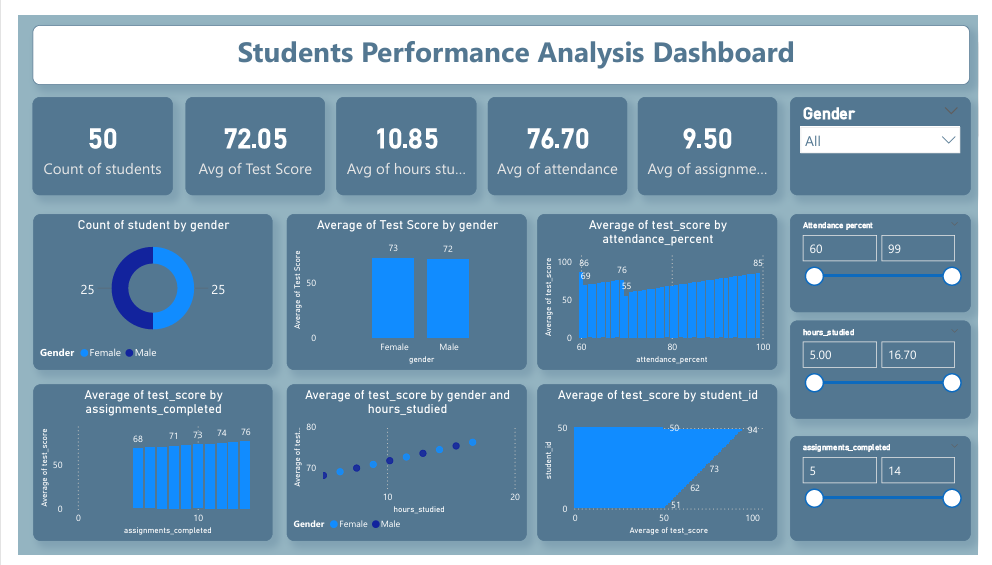

The page's visual inventory and layout, read from the dashboard file:
{"tool":"powerbi","page":{"name":"Page 1","canvas":[1280,720],"ordinal":0},"visuals":[{"type":"card","fields":{"Values":["CountNonNull(student_performance_analysis.student_id)"]},"box":[18.5,107.5,186.5,131],"z":0},{"type":"textbox","box":[18.5,11.8,1249.8,80.6],"z":1000},{"type":"card","fields":{"Values":["Avg(student_performance_analysis.test_score)"]},"box":[221.7,107.5,186.5,131],"z":2000},{"type":"card","fields":{"Values":["Avg(student_performance_analysis.hours_studied)"]},"box":[423.3,107.5,186.5,131],"z":3000},{"type":"card","fields":{"Values":["Avg(student_performance_analysis.attendance_percent)"]},"box":[624.9,107.5,186.5,131],"z":4000},{"type":"card","fields":{"Values":["Avg(student_performance_analysis.assignments_completed)"]},"box":[824.8,107.5,186.5,131],"z":5000},{"type":"slicer","fields":{"Values":["student_performance_analysis.gender"]},"box":[1028.2,108,240.5,131],"z":6000},{"type":"donutChart","fields":{"Y":["CountNonNull(student_performance_analysis.student_id)"],"Category":["student_performance_analysis.gender"]},"box":[18.7,263.5,319.7,208.8],"z":7000},{"type":"lineClusteredColumnComboChart","fields":{"Category":["student_performance_analysis.gender"],"Y":["Avg(student_performance_analysis.test_score)"]},"box":[357.1,263.5,319.7,208.8],"z":8000},{"type":"lineStackedColumnComboChart","fields":{"Category":["student_performance_analysis.attendance_percent"],"Y":["Avg(student_performance_analysis.test_score)"]},"box":[691.2,263.5,319.7,208.8],"z":9000},{"type":"columnChart","fields":{"Y":["Avg(student_performance_analysis.test_score)"],"Category":["student_performance_analysis.assignments_completed"]},"box":[18.7,491,319.7,208.8],"z":10000},{"type":"scatterChart","fields":{"Series":["student_performance_analysis.gender"],"X":["student_performance_analysis.hours_studied"],"Y":["Avg(student_performance_analysis.test_score)"]},"box":[357.1,491,319.7,208.8],"z":11000},{"type":"barChart","fields":{"Y":["Avg(student_performance_analysis.test_score)"],"Category":["student_performance_analysis.student_id"]},"box":[691.2,491,319.7,208.8],"z":12000},{"type":"slicer","fields":{"Values":["student_performance_analysis.attendance_percent"]},"box":[1028.2,263.5,240.5,131],"z":13000},{"type":"slicer","fields":{"Values":["student_performance_analysis.hours_studied"]},"box":[1028.2,406.1,240.5,131],"z":14000},{"type":"slicer","fields":{"Values":["student_performance_analysis.assignments_completed"]},"box":[1028.2,560.2,240.5,139.7],"z":15000}]}

Visuals, with their boxes in screenshot pixels (x1, y1, x2, y2), scaled from the page's 1280x720 canvas onto the 992x565 screenshot:
card - CountNonNull(student_performance_analysis.student_id): bbox(14, 84, 159, 187)
textbox: bbox(14, 9, 983, 73)
card - Avg(student_performance_analysis.test_score): bbox(172, 84, 316, 187)
card - Avg(student_performance_analysis.hours_studied): bbox(328, 84, 473, 187)
card - Avg(student_performance_analysis.attendance_percent): bbox(484, 84, 629, 187)
card - Avg(student_performance_analysis.assignments_completed): bbox(639, 84, 784, 187)
slicer - student_performance_analysis.gender: bbox(797, 85, 983, 188)
donutChart - CountNonNull(student_performance_analysis.student_id) x student_performance_analysis.gender: bbox(14, 207, 262, 371)
lineClusteredColumnComboChart - student_performance_analysis.gender x Avg(student_performance_analysis.test_score): bbox(277, 207, 525, 371)
lineStackedColumnComboChart - student_performance_analysis.attendance_percent x Avg(student_performance_analysis.test_score): bbox(536, 207, 783, 371)
columnChart - Avg(student_performance_analysis.test_score) x student_performance_analysis.assignments_completed: bbox(14, 385, 262, 549)
scatterChart - student_performance_analysis.gender x student_performance_analysis.hours_studied: bbox(277, 385, 525, 549)
barChart - Avg(student_performance_analysis.test_score) x student_performance_analysis.student_id: bbox(536, 385, 783, 549)
slicer - student_performance_analysis.attendance_percent: bbox(797, 207, 983, 310)
slicer - student_performance_analysis.hours_studied: bbox(797, 319, 983, 421)
slicer - student_performance_analysis.assignments_completed: bbox(797, 440, 983, 549)
